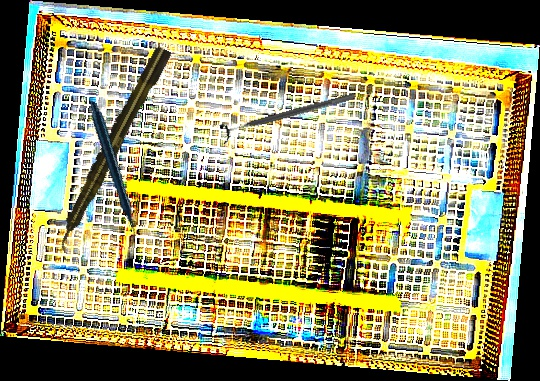Fixation Ring: (218, 85, 358, 145)
Handpiece: (49, 44, 174, 254), (51, 101, 173, 244)
